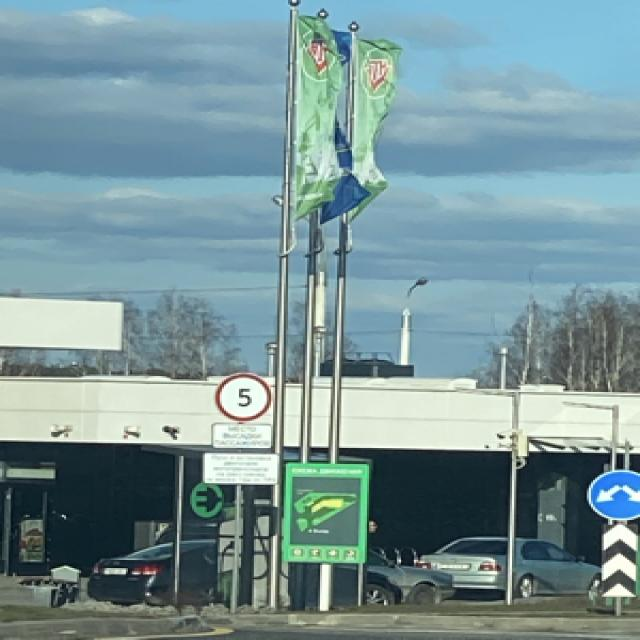speedlimit: (211, 371, 269, 419)
